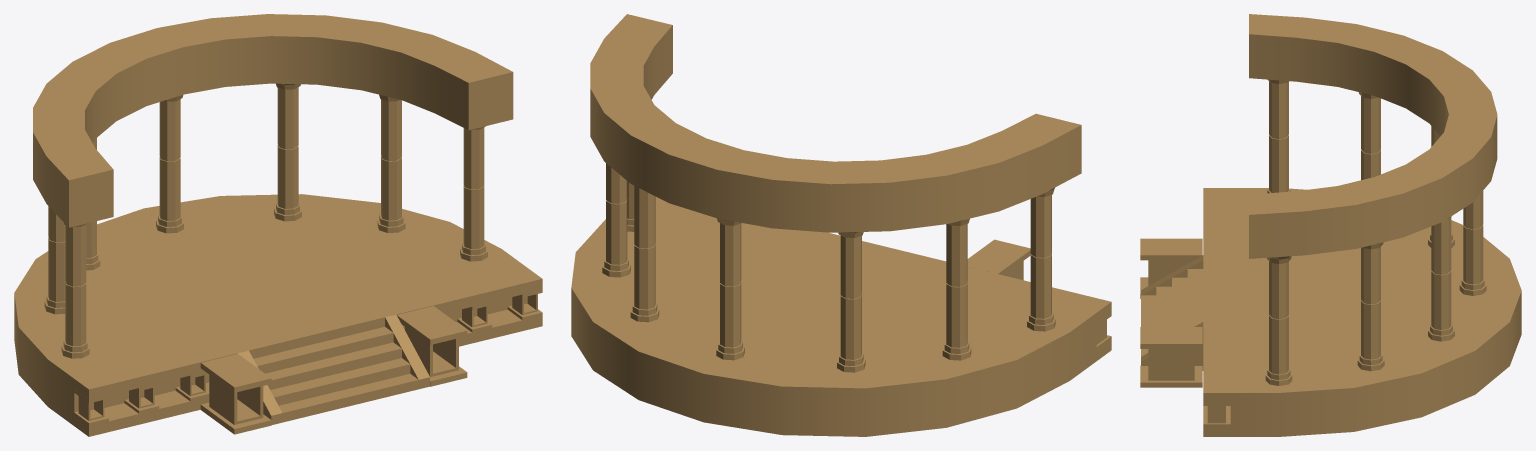
The model's file is Greek_Theater_Temple_Colored.fbx.
The picture shows the model from 3 angles, left to right: view 1: azimuth 30°, elevation 25°; view 2: azimuth 150°, elevation 25°; view 3: azimuth 270°, elevation 25°; orthographic projection. The views are drawn at different scales.
Parts seen in each view (by area): view 1: Theather_Base, Roof_Arch, Stairs4, Pedestal_Table3, Pedestal_Table1, Pillar_Low_Poly6, Pillar_Low_Poly7, Pillar_Low_Poly10, Pillar_Low_Poly4, Pillar_Low_Poly5, Pillar_Low_Poly9, Stairs_Edge_Cover (+7 smaller); view 2: Theather_Base, Roof_Arch, Pillar_Low_Poly8, Pillar_Low_Poly7, Pillar_Low_Poly9, Pillar_Low_Poly10, Pillar_Low_Poly6, Pillar_Low_Poly5, Pedestal_Table3; view 3: Theather_Base, Roof_Arch, Pedestal_Table1, Stairs4, Pillar_Low_Poly4, Pillar_Low_Poly5, Pillar_Low_Poly6, Pillar_Low_Poly10, Pedestal_Table3, Pillar_Low_Poly7, Pillar_Low_Poly9, Stairs_Edge_Cover1 (+1 smaller).
Part boxes in pixels (x1=…): Theather_Base: x1=14, y1=194, x2=542, y2=436; Roof_Arch: x1=33, y1=14, x2=513, y2=227; Stairs4: x1=253, y1=327, x2=418, y2=422; Pedestal_Table3: x1=200, y1=354, x2=271, y2=434; Pedestal_Table1: x1=397, y1=306, x2=467, y2=386; Pillar_Low_Poly6: x1=274, y1=83, x2=301, y2=221; Pillar_Low_Poly7: x1=156, y1=95, x2=183, y2=233; Pillar_Low_Poly10: x1=61, y1=223, x2=89, y2=358; Pillar_Low_Poly4: x1=460, y1=126, x2=487, y2=261; Pillar_Low_Poly5: x1=377, y1=94, x2=405, y2=232; Pillar_Low_Poly9: x1=44, y1=206, x2=65, y2=314; Stairs_Edge_Cover: x1=385, y1=314, x2=429, y2=389; Theather_Base: x1=571, y1=197, x2=1111, y2=436; Roof_Arch: x1=590, y1=14, x2=1081, y2=232; Pillar_Low_Poly8: x1=837, y1=232, x2=865, y2=372; Pillar_Low_Poly7: x1=716, y1=218, x2=744, y2=360; Pillar_Low_Poly9: x1=942, y1=218, x2=971, y2=360; Pillar_Low_Poly10: x1=1027, y1=188, x2=1055, y2=331; Pillar_Low_Poly6: x1=630, y1=186, x2=659, y2=322; Pillar_Low_Poly5: x1=602, y1=163, x2=630, y2=277; Pedestal_Table3: x1=967, y1=239, x2=1030, y2=280; Theather_Base: x1=1203, y1=188, x2=1521, y2=436; Roof_Arch: x1=1249, y1=14, x2=1497, y2=258; Pedestal_Table1: x1=1140, y1=327, x2=1202, y2=387; Stairs4: x1=1141, y1=269, x2=1203, y2=356; Pillar_Low_Poly4: x1=1265, y1=256, x2=1292, y2=385; Pillar_Low_Poly5: x1=1357, y1=242, x2=1384, y2=371; Pillar_Low_Poly6: x1=1428, y1=216, x2=1454, y2=341; Pillar_Low_Poly10: x1=1267, y1=79, x2=1290, y2=193; Pedestal_Table3: x1=1140, y1=238, x2=1202, y2=298; Pillar_Low_Poly7: x1=1459, y1=191, x2=1486, y2=295; Pillar_Low_Poly9: x1=1358, y1=92, x2=1380, y2=180; Stairs_Edge_Cover1: x1=1141, y1=255, x2=1203, y2=295.
Size of the model in its own units: 1000 by 500 by 786.
